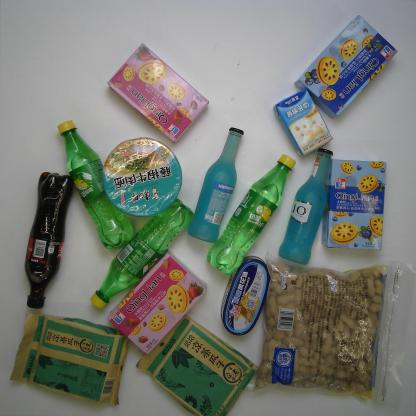Alcohol: (186, 126, 246, 242), (278, 147, 336, 265)
Canned Food: (218, 255, 272, 337)
Dessert: (295, 13, 397, 118), (106, 42, 208, 146), (109, 252, 210, 355), (321, 156, 387, 253)
Dried Food: (243, 253, 416, 409), (9, 310, 134, 408), (136, 314, 256, 413)
Drink: (89, 197, 195, 311), (206, 153, 295, 275), (56, 120, 134, 248), (23, 171, 76, 310)
Instant Noodles: (102, 136, 182, 218)
Milk: (274, 89, 332, 157)
